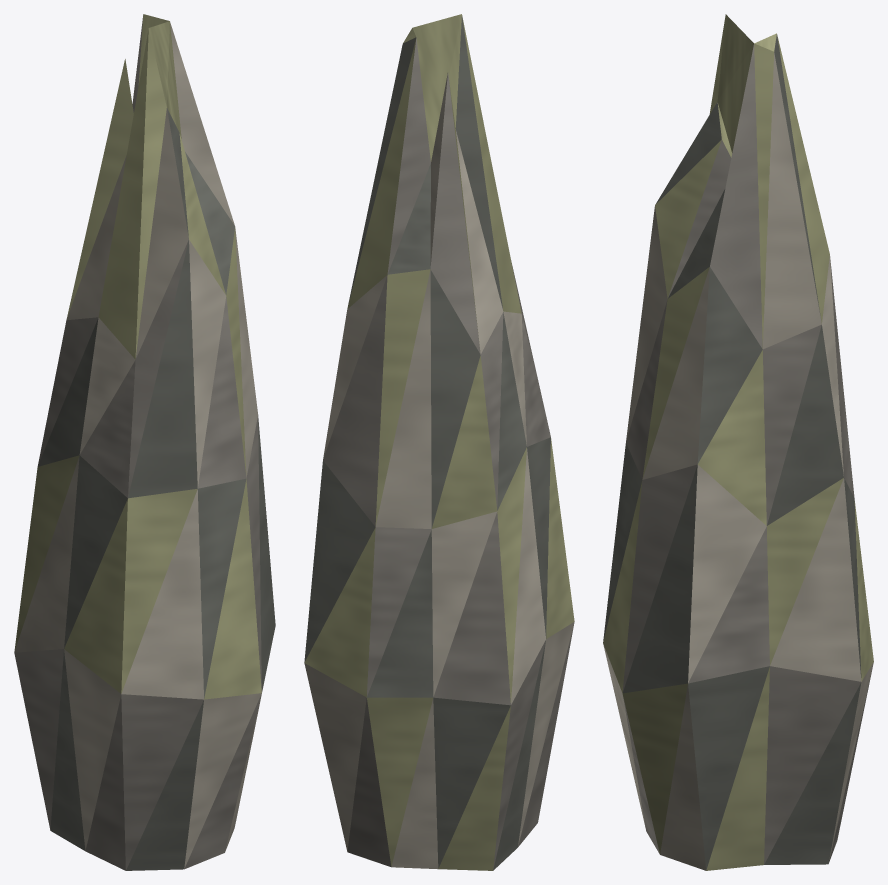
Rendered from rock_spire_01.fbx.
3 views of the same model, side by side, from view 1: azimuth 30°, elevation 25°; view 2: azimuth 150°, elevation 25°; view 3: azimuth 270°, elevation 25° (orthographic).
Visible parts, largest first — view 1: rock_spire_01; view 2: rock_spire_01; view 3: rock_spire_01.
Part boxes in pixels (left/top/right/bottom): rock_spire_01: left=14, top=14, right=275, bottom=870; rock_spire_01: left=304, top=14, right=574, bottom=870; rock_spire_01: left=603, top=14, right=873, bottom=870.
Size of the model in its own units: 172 by 668 by 200.
1 material, 1 textured.
